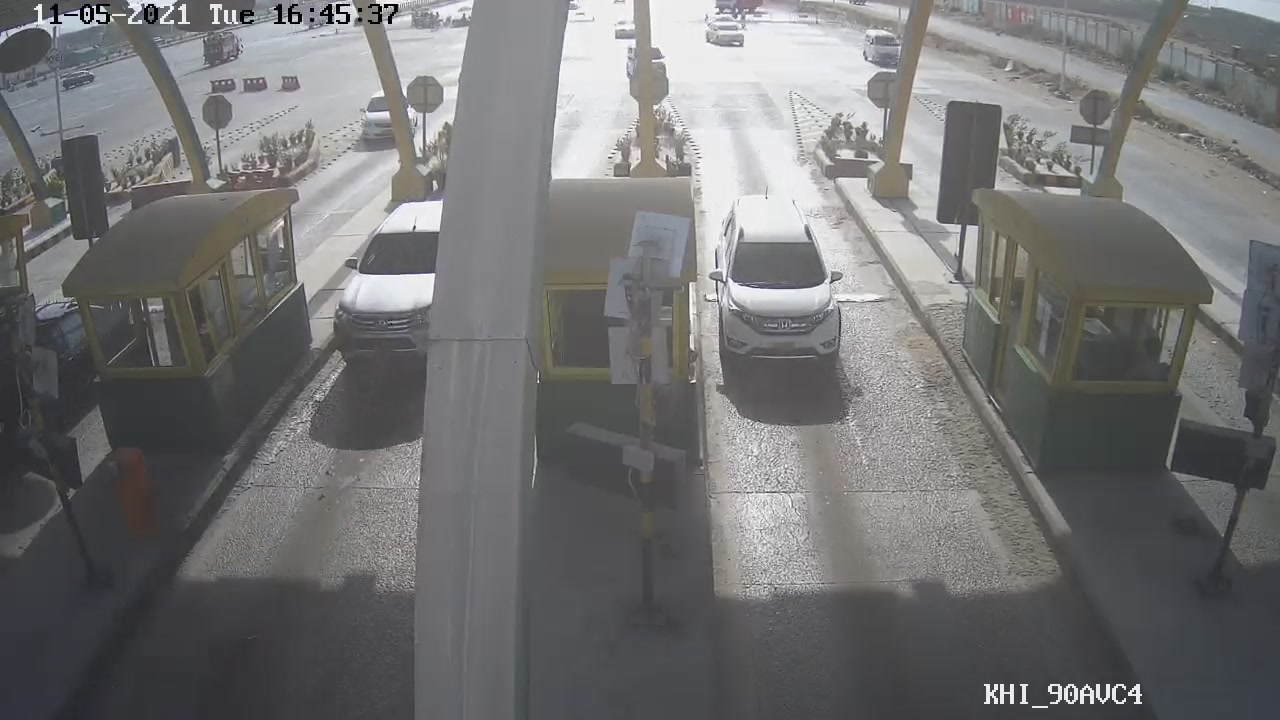F1: (702, 190, 848, 371)
